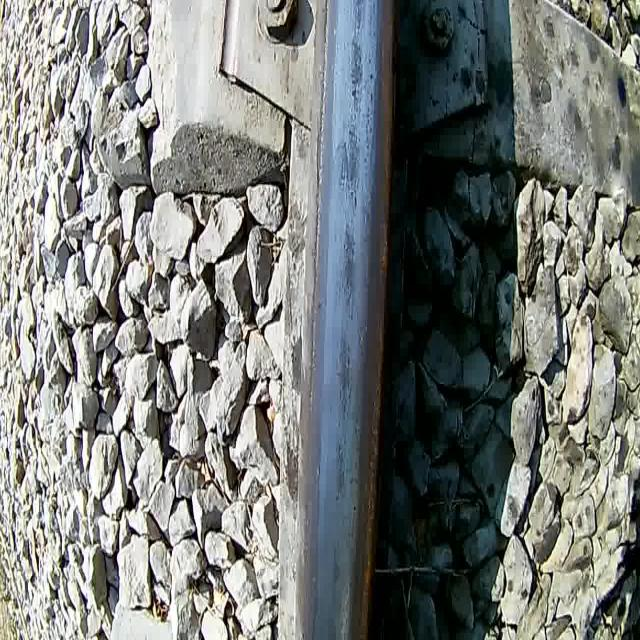Cracks: (338, 344, 354, 421), (338, 130, 352, 201), (349, 77, 365, 127), (351, 173, 363, 210)
Squats: (336, 120, 363, 215), (338, 217, 360, 324), (344, 32, 369, 120), (336, 322, 356, 430), (330, 434, 350, 506), (326, 534, 344, 602), (347, 0, 370, 35), (321, 604, 341, 640)
